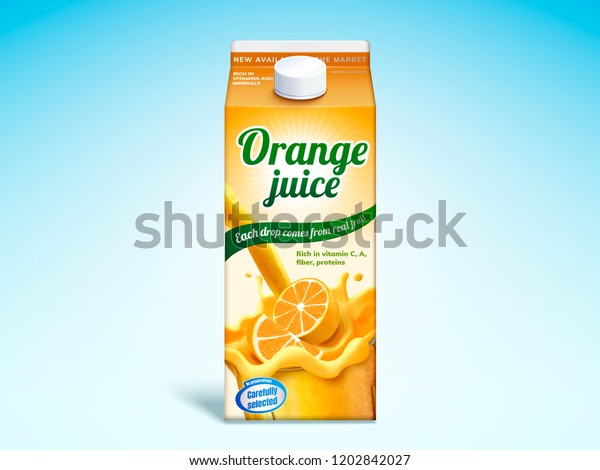carton: (220, 36, 379, 426)
